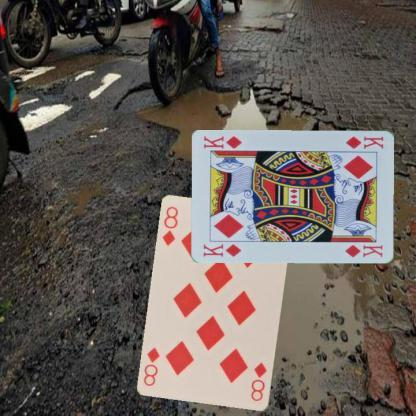8d: (160, 204, 180, 248), (248, 360, 268, 403)
Kd: (201, 241, 243, 258), (344, 133, 385, 150)
